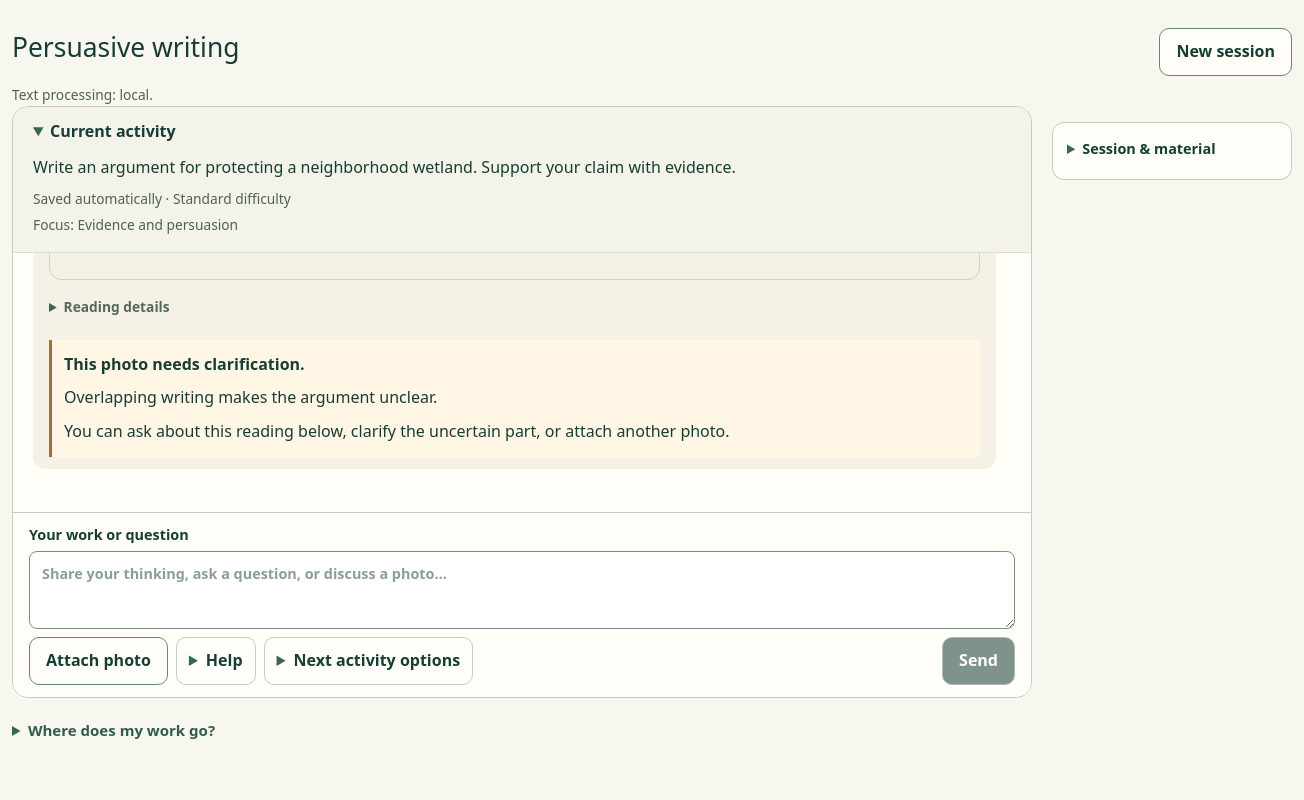
Test case: AI learning conversation › rejects low-confidence readings and offers clearer work without tutoring guessed text
(page scrolled)
Check: the text "This photo needs clarification." is shown, box [64, 353, 305, 375]
Click the heading "Reading details" at (117, 306), box [64, 297, 170, 316]
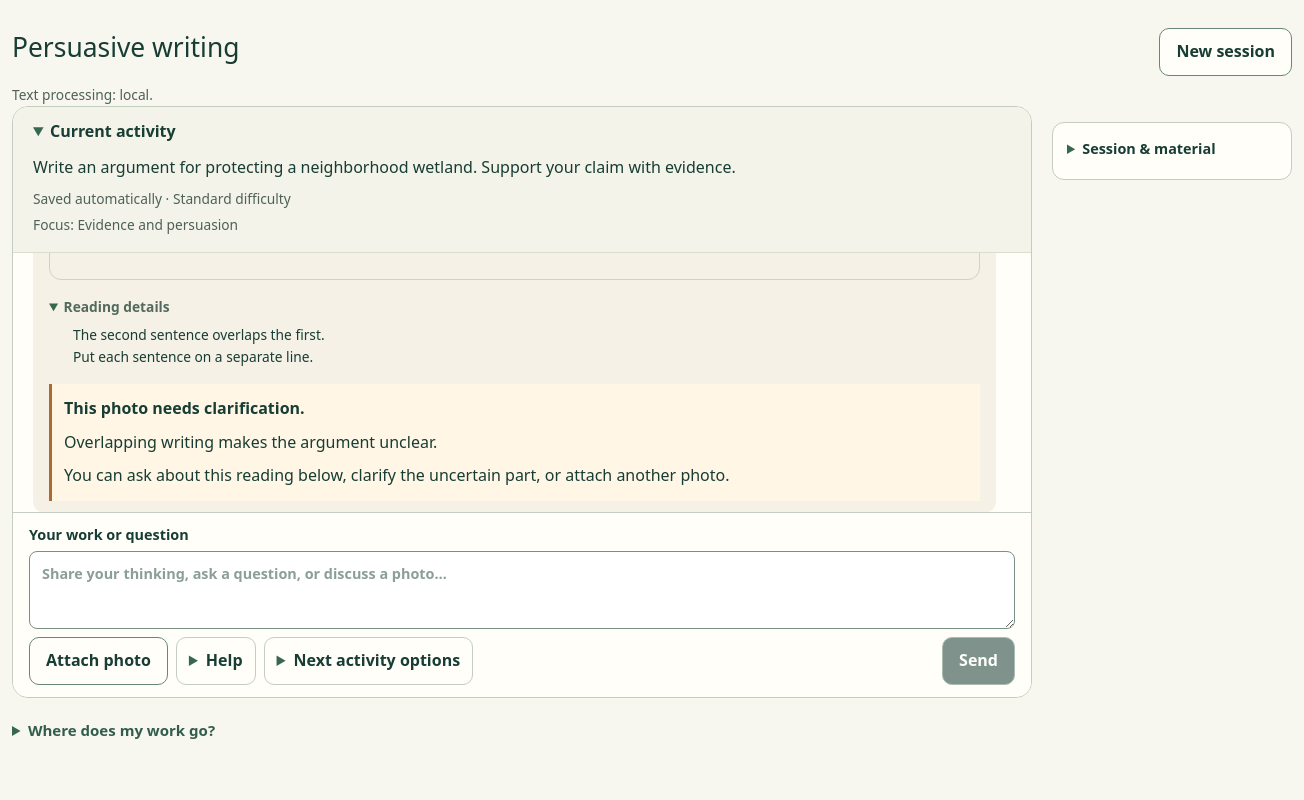
Check: the list item "Put each sentence on a separate line." is shown, box [73, 347, 313, 366]
Click the button "Attach photo" at (98, 661), box [29, 637, 168, 685]
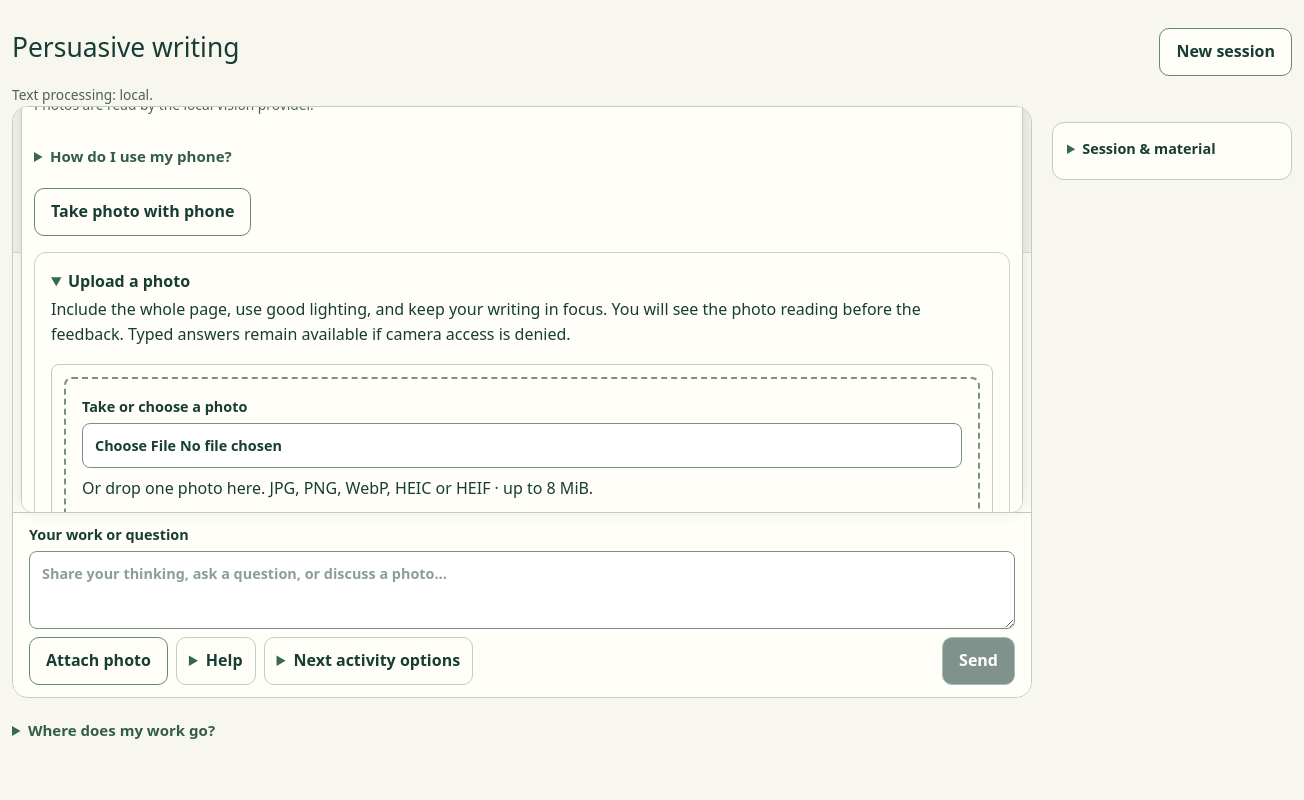
Check: the button "Take photo with phone" is enabled, box [34, 188, 252, 236]
